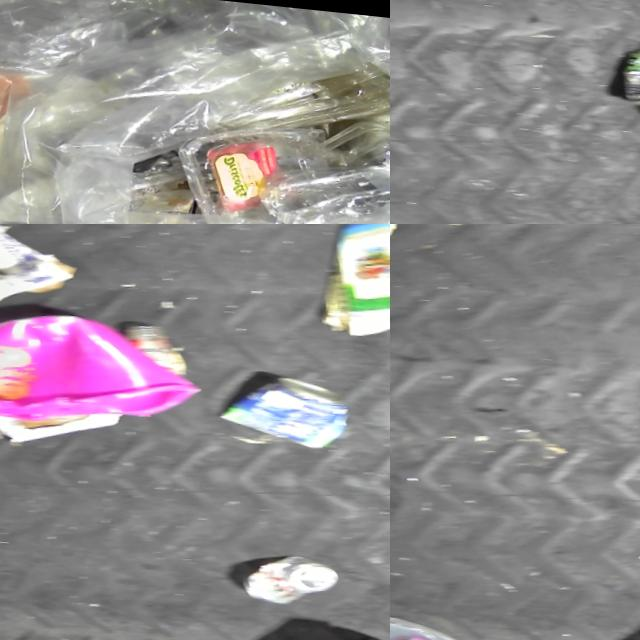can: (207, 356, 352, 450), (230, 536, 340, 608)
non_white_jug: (0, 285, 197, 437)
plastic_bottle: (607, 0, 640, 103)
